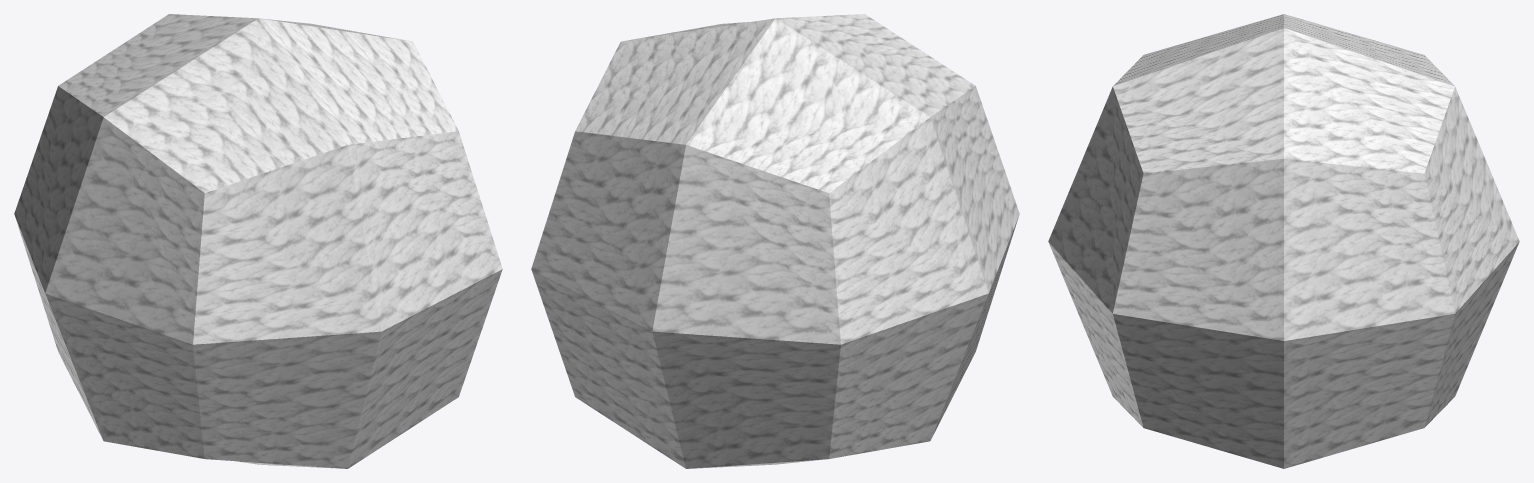
File: cuctron.glb
The picture shows the model from 3 angles, left to right: view 1: azimuth 30°, elevation 25°; view 2: azimuth 150°, elevation 25°; view 3: azimuth 270°, elevation 25°; orthographic projection. The views are drawn at different scales.
Visible parts, largest first — view 1: Cube.001; view 2: Cube.001; view 3: Cube.001.
Boxes of the visible parts, box(x1,y1,x2,y2) form: Cube.001: box(14, 14, 502, 468); Cube.001: box(531, 14, 1019, 468); Cube.001: box(1048, 14, 1519, 468).
Bounding box in the file's own units: 0.084 × 0.084 × 0.084.
1 material, 1 textured.
